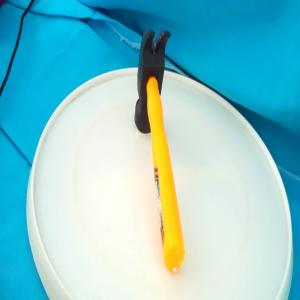martelo: (134, 26, 185, 277)
